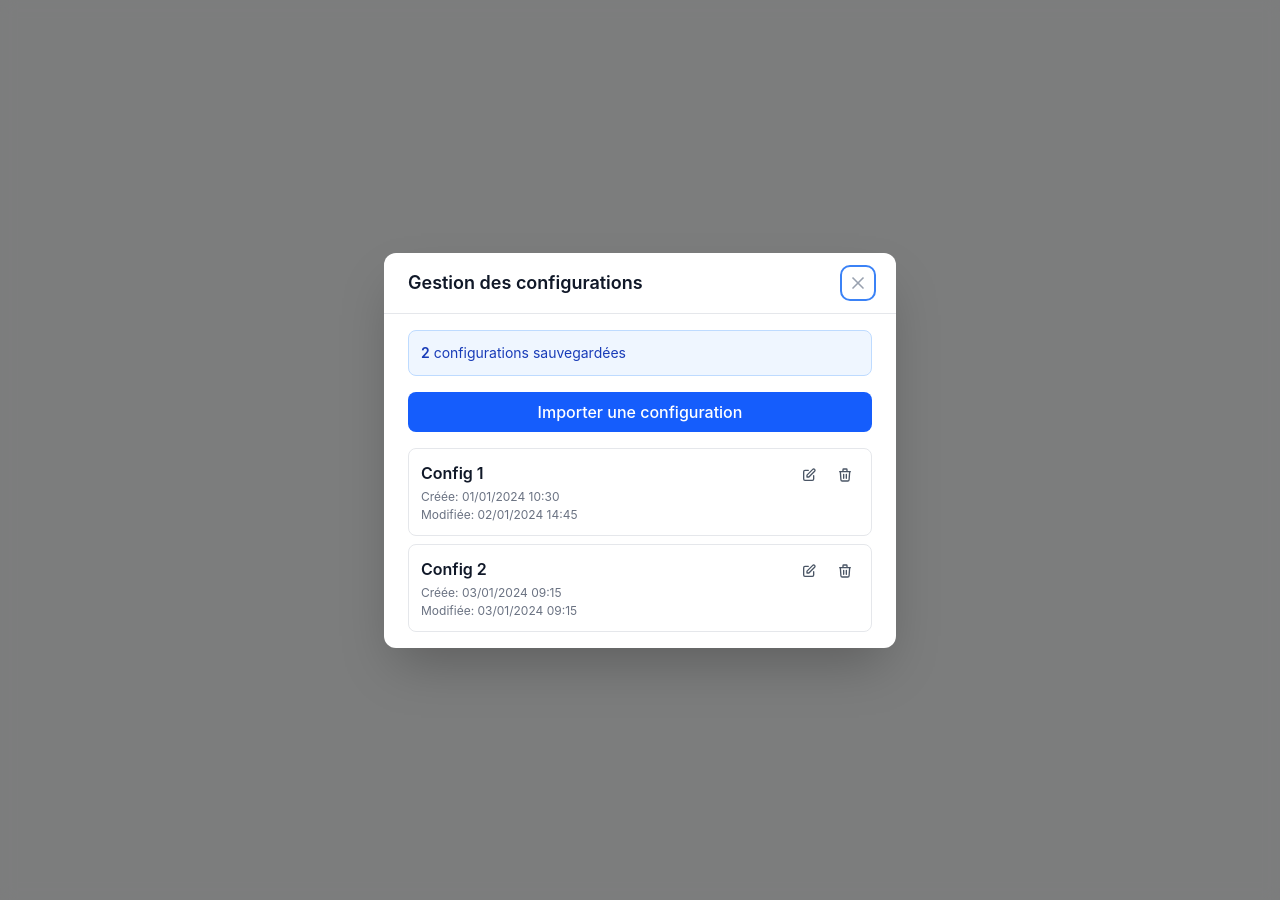
Test: ConfigManagementPanel › should close delete confirmation on cancel
This screenshot has width=1280, height=900.
Open delete confirmation
Click the button named "Supprimer Config 1". click: (845, 474)
box: top-left (831, 460), bottom-right (859, 488)
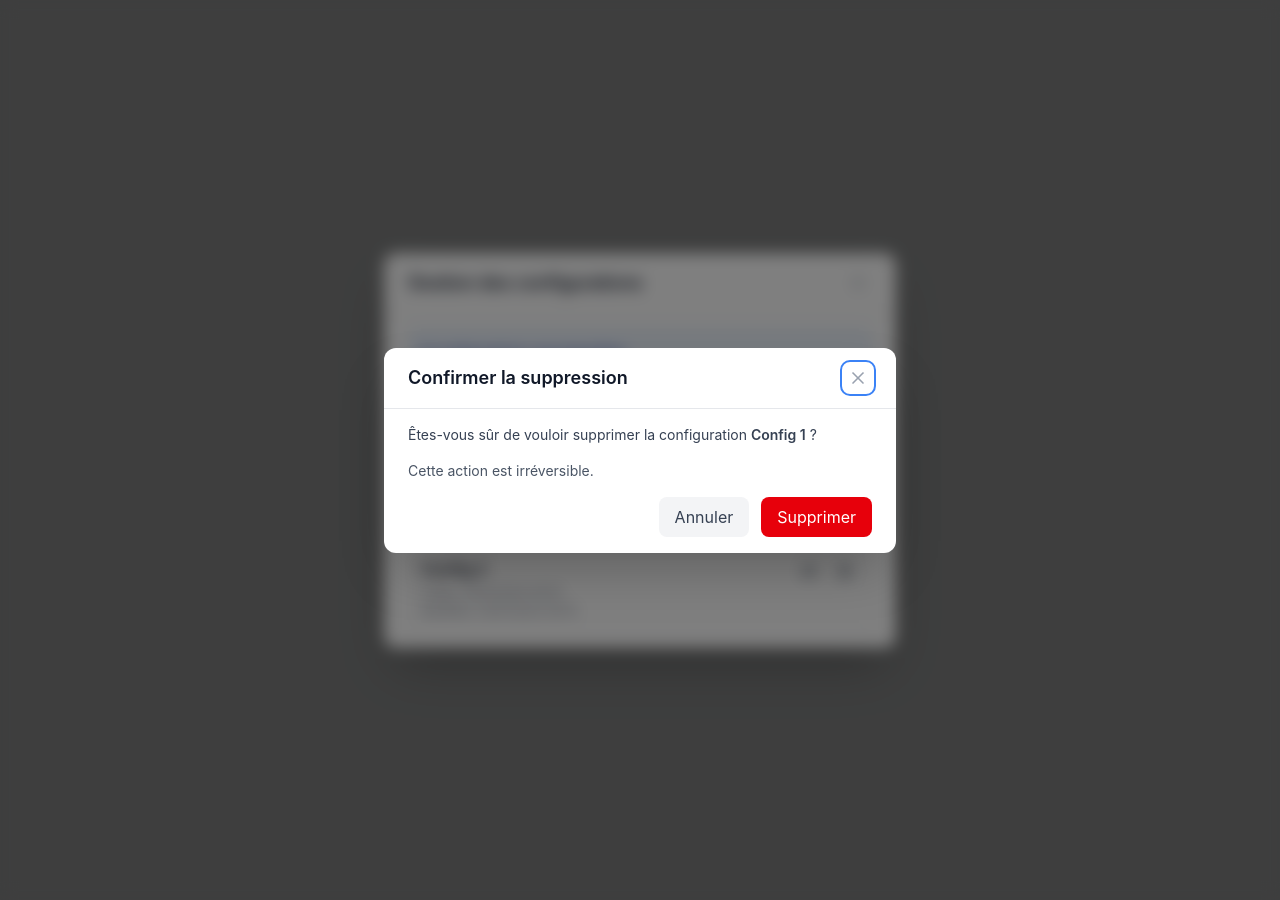
Expected: the heading "Confirmer la suppression" is shown, top-left (408, 364), bottom-right (628, 392)
Click the button "Annuler". click: (704, 516)
box: top-left (659, 496), bottom-right (749, 536)
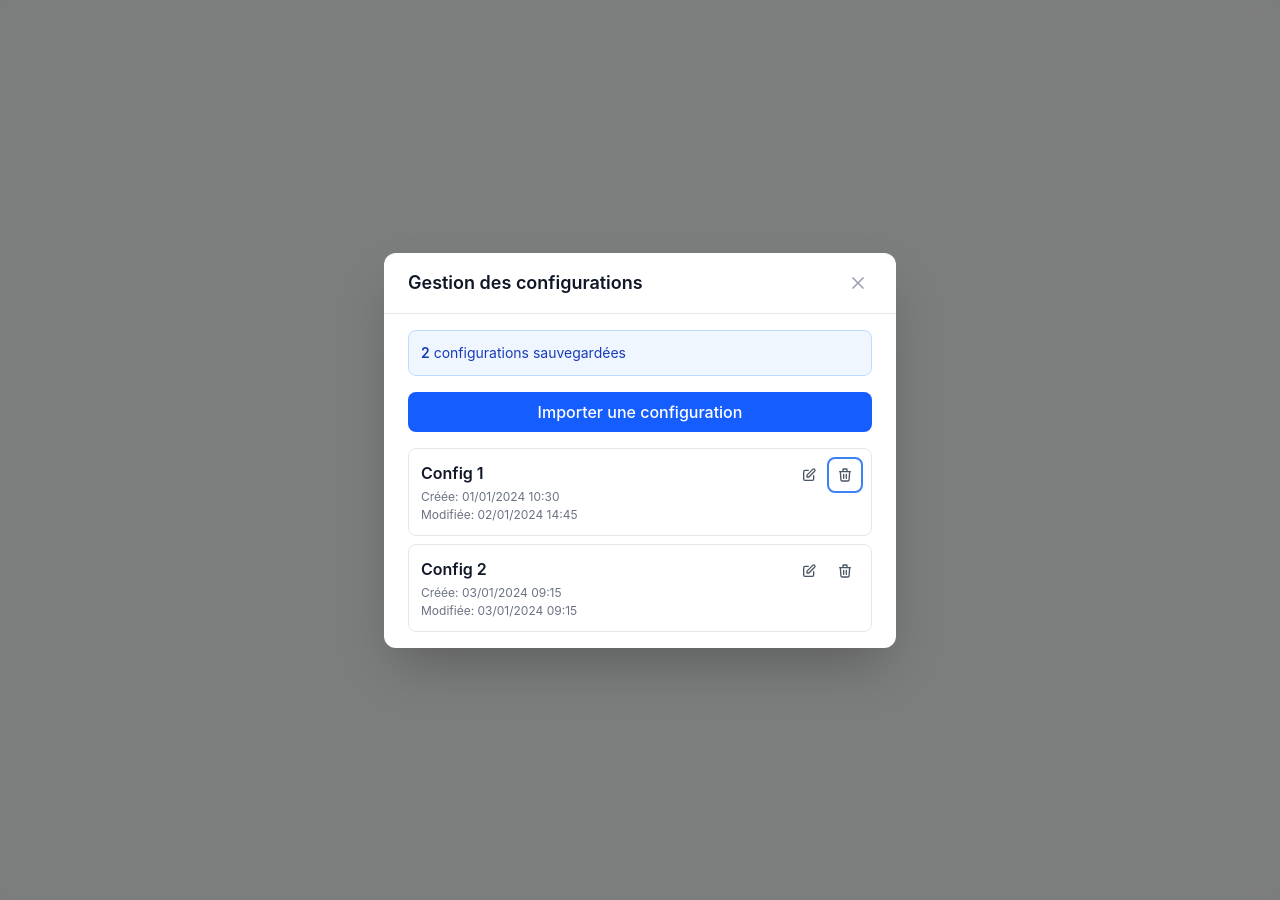
Expected: the heading "Confirmer la suppression" is gone
